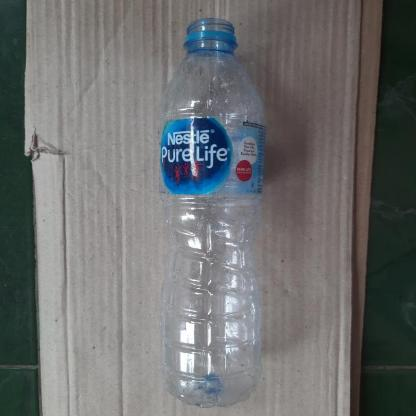Plastic Bottle: (158, 18, 268, 406)
